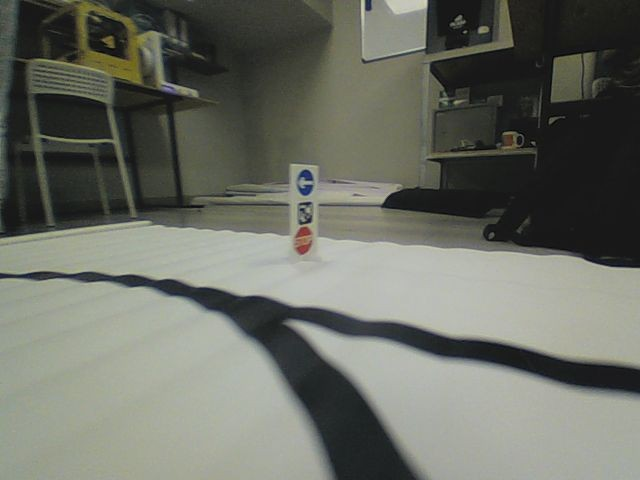Stop: (294, 225, 313, 255)
